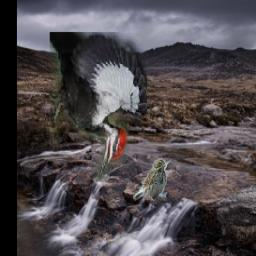Sparrow: (133, 158, 167, 201)
Woodpecker: (50, 32, 147, 181)
